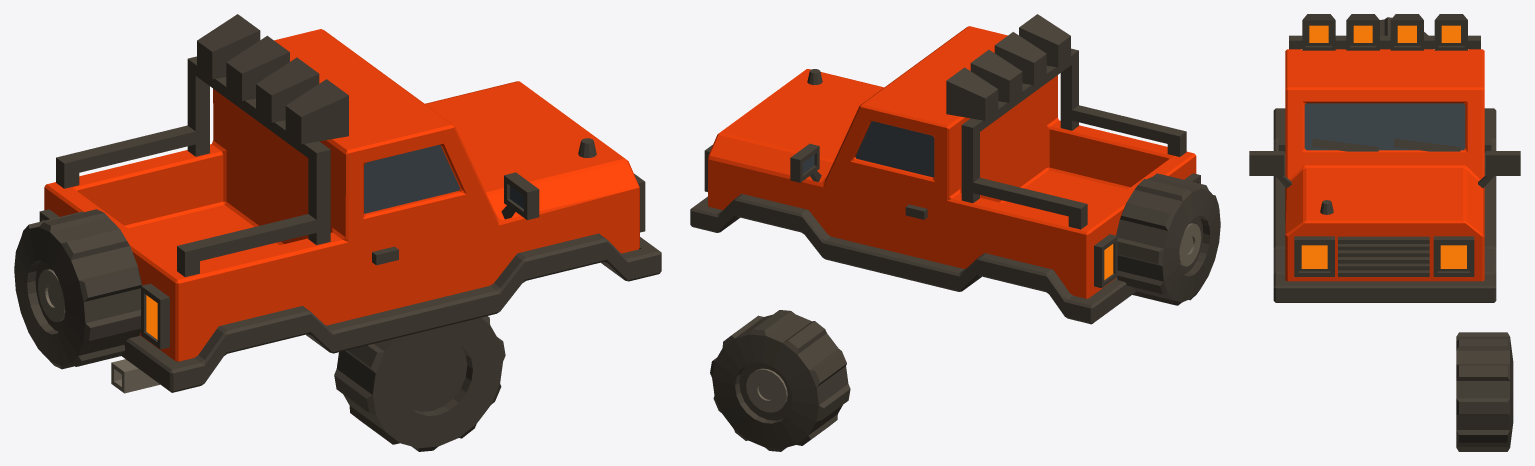
The model's file is oldSchool.glb.
3 views of the same model, side by side, from view 1: azimuth 30°, elevation 25°; view 2: azimuth 150°, elevation 25°; view 3: azimuth 270°, elevation 25° (orthographic). The views are drawn at different scales.
Visible parts, largest first — view 1: bodyPainted, bodyBlack.002, wheel, shadeWhite.002; view 2: bodyPainted, bodyBlack.002, wheel, shadeWhite.002; view 3: bodyPainted, bodyBlack.002, shadeWhite.002, wheel, headlights.002.
Boxes of the visible parts, x1,y1,x2,y2 form: bodyPainted: (44,29,639,361); bodyBlack.002: (14,14,661,393); wheel: (334,316,505,451); shadeWhite.002: (364,145,523,213); bodyPainted: (708,26,1196,298); bodyBlack.002: (690,14,1220,324); wheel: (710,310,850,451); shadeWhite.002: (803,121,934,177); bodyPainted: (1285,49,1484,281); bodyBlack.002: (1249,14,1520,302); shadeWhite.002: (1304,103,1465,150); wheel: (1456,332,1513,451); headlights.002: (1301,25,1466,268).
Size of the model in its own units: 3.26 by 2.75 by 1.9.
Materials: 4 (1 with a texture image).
